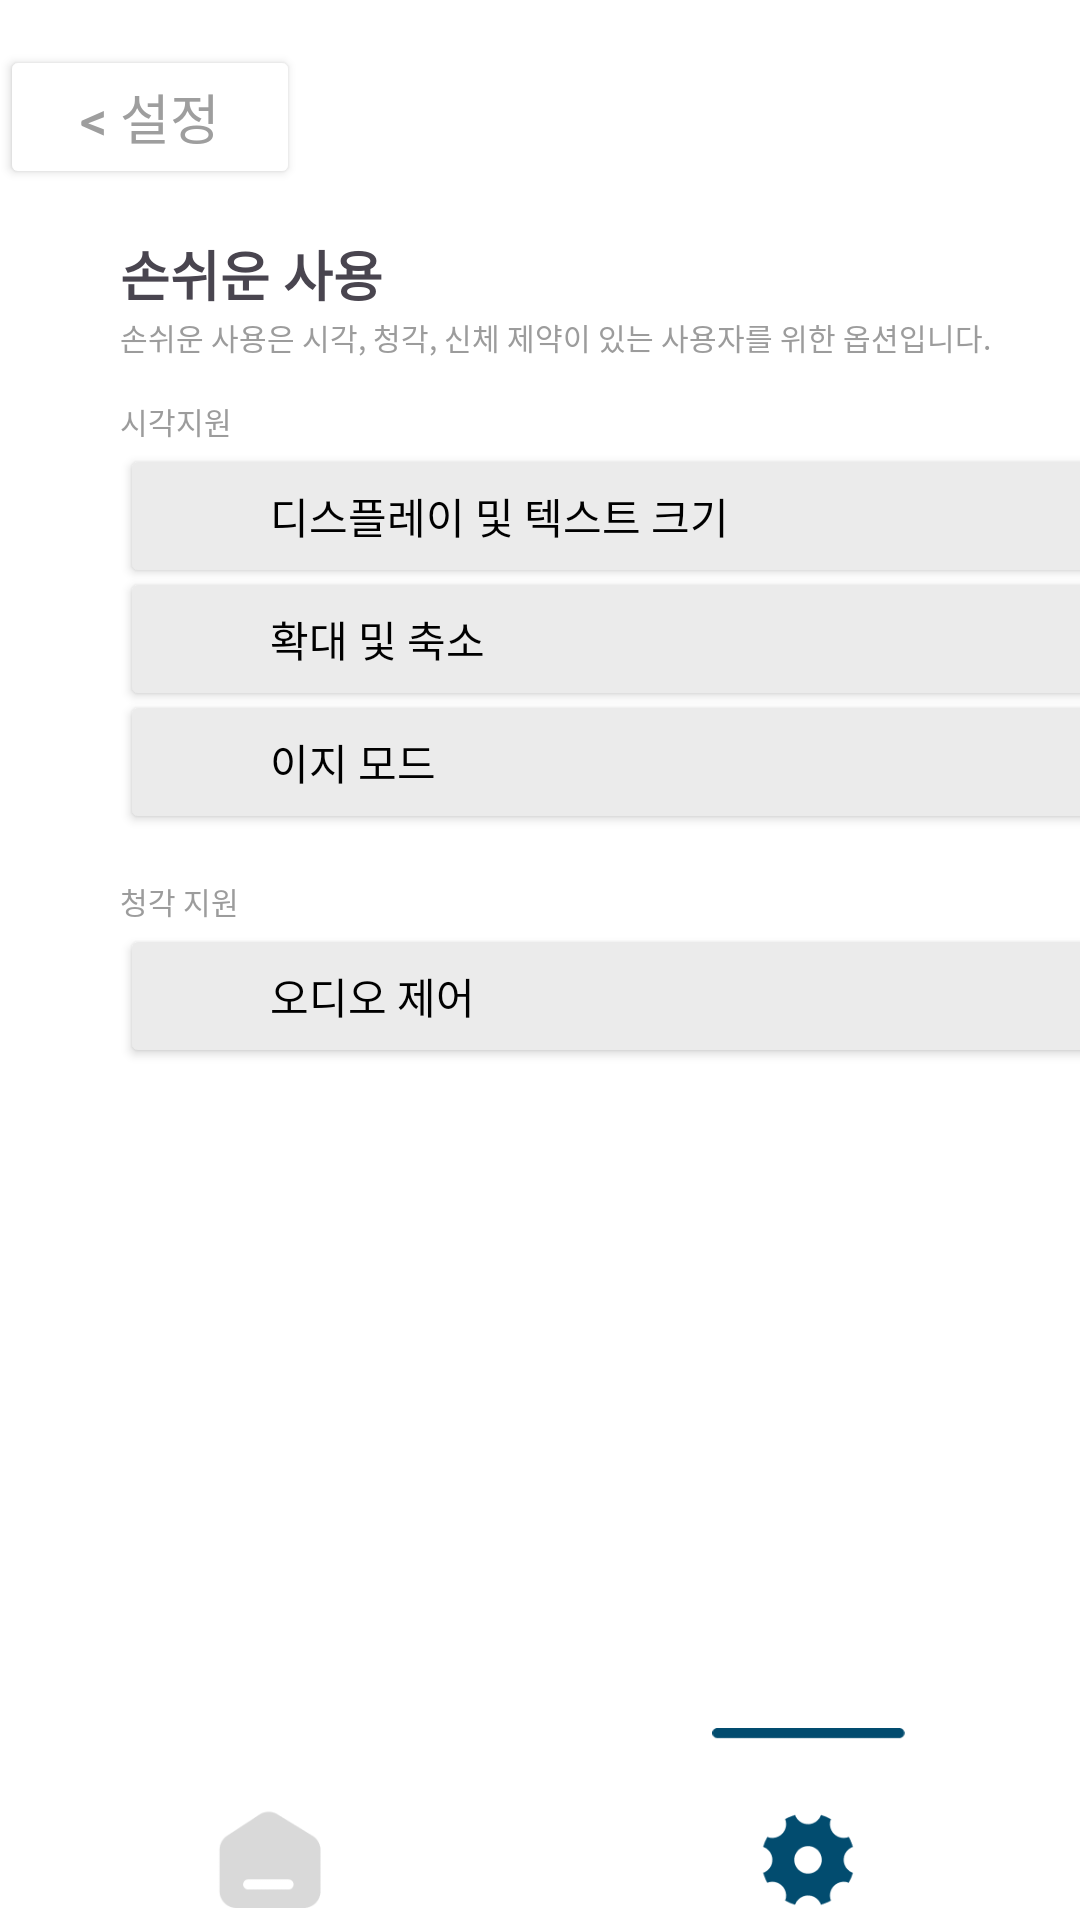

Where icons sit on this 1080px x 1920px app screen, as (x1, y1, x2, y2):
home: (220, 1812, 320, 1908)
